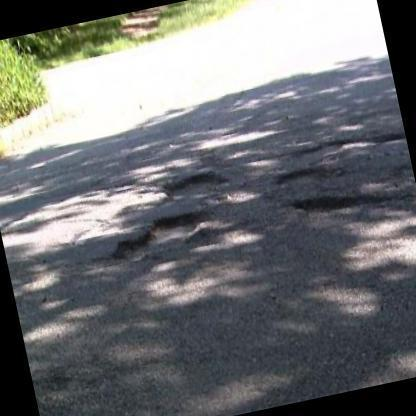pothole: (266, 124, 410, 190), (108, 207, 208, 265), (288, 192, 416, 226), (163, 168, 227, 206)
